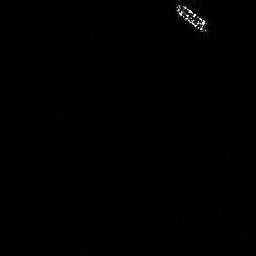ship: (173, 2, 211, 34)
